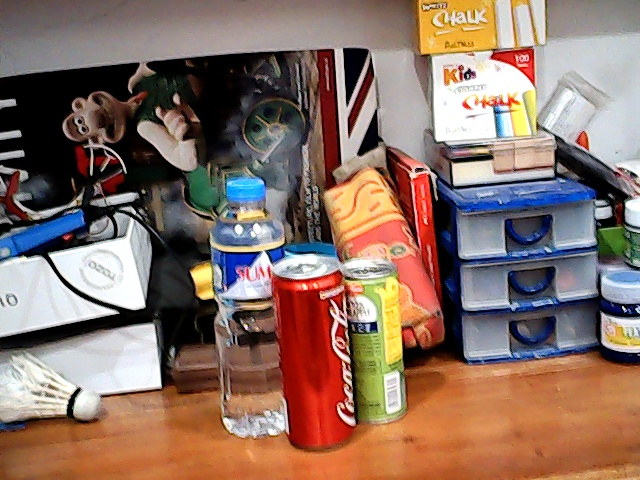Cola: (273, 264, 353, 453)
Pine Juice: (341, 257, 412, 431)
Summit Water: (203, 166, 286, 437)
